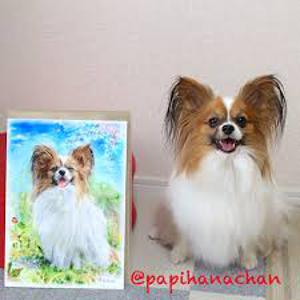yell: (149, 74, 289, 268)
